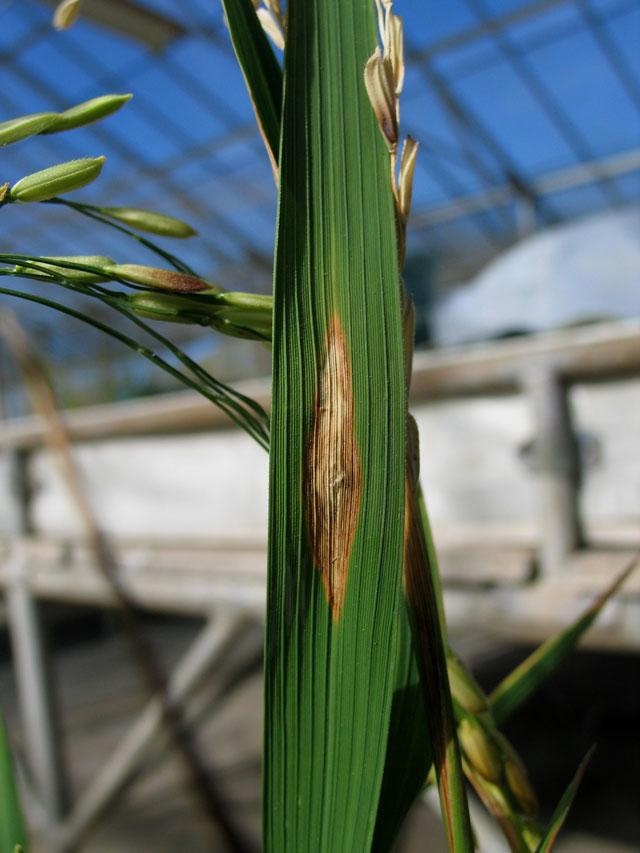Brown_Spot: (285, 295, 369, 647)
